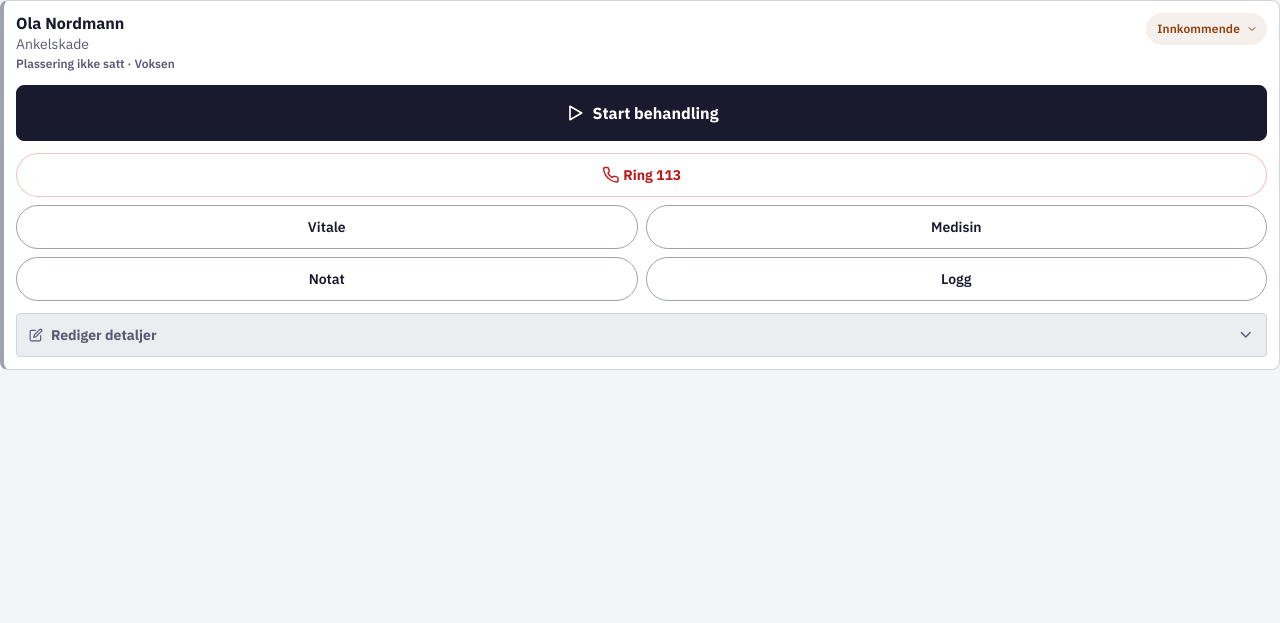
Test case: PatientCard — triage editor › shows all four triage chips plus "Fjern triage"
Click the button with test id "edit-details-toggle-pat-triage-1" at (104, 335), box [16,313,1267,357]
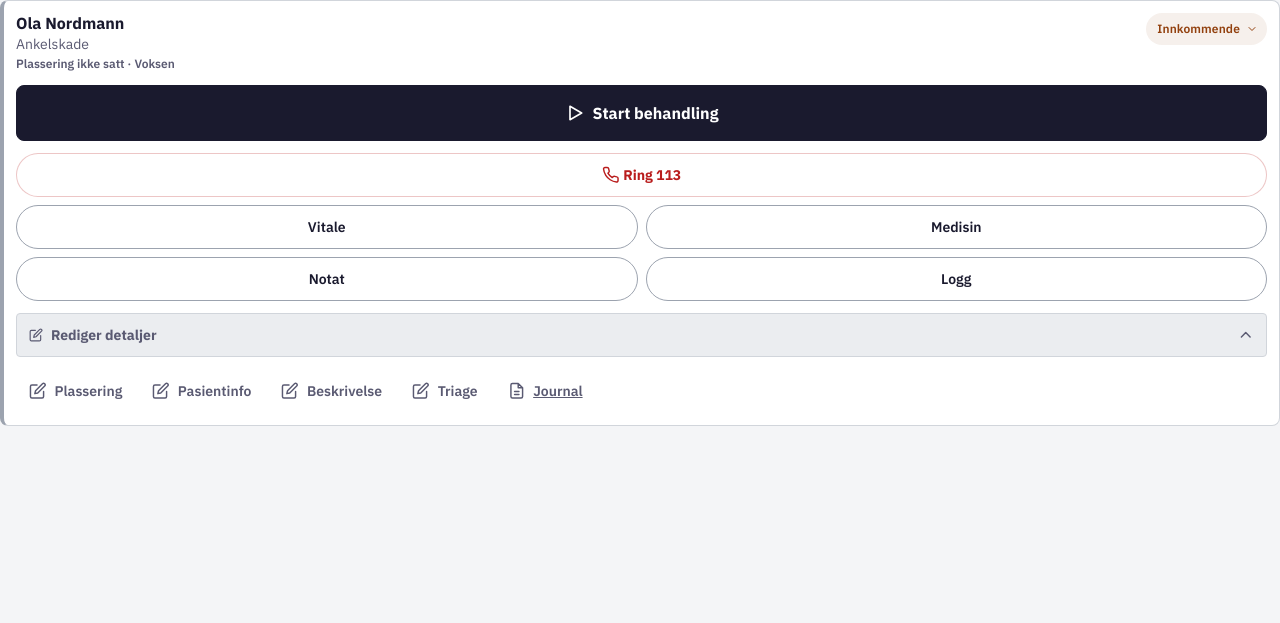
Click the button with test id "triage-editor-toggle-pat-triage-1" at (445, 391), box [399,369,491,413]
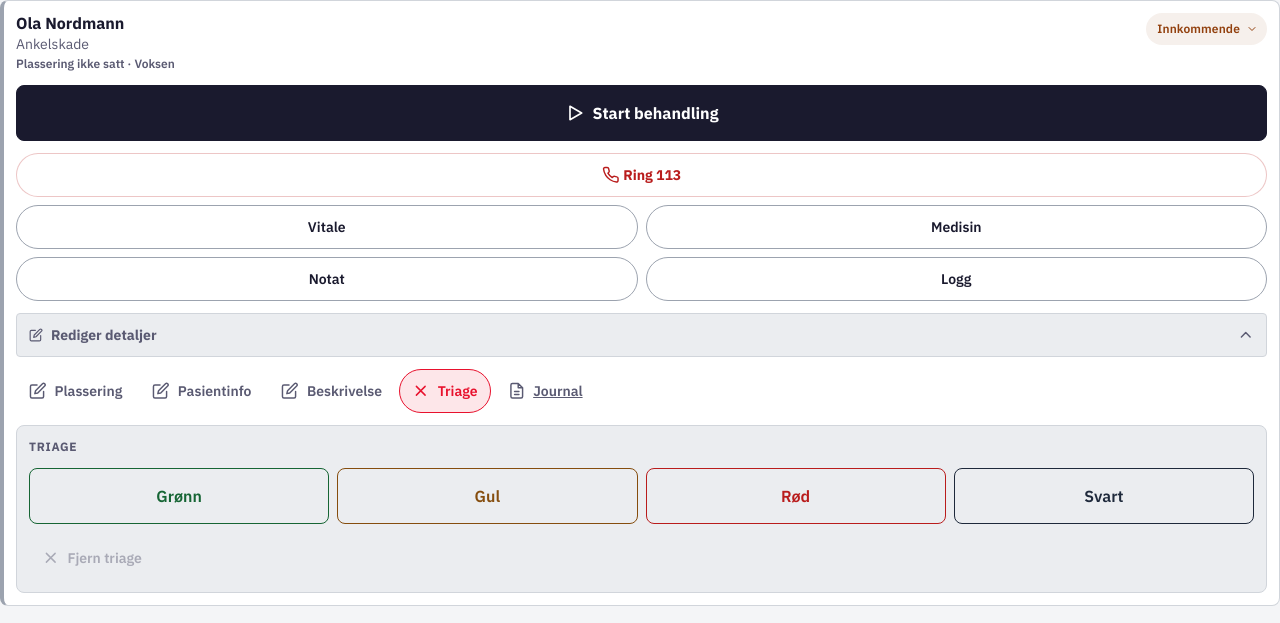
Now the element with test id "triage-editor-pat-triage-1" shows "Grønn", box [29,468,329,524]
Now the element with test id "triage-editor-pat-triage-1" shows "Gul", box [337,468,638,524]
Now the element with test id "triage-editor-pat-triage-1" shows "Rød", box [646,468,946,524]
